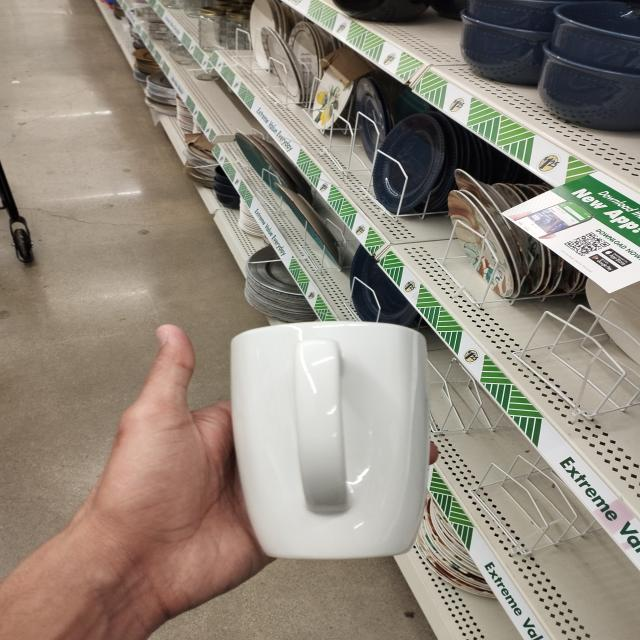Cup: (218, 316, 466, 573)
